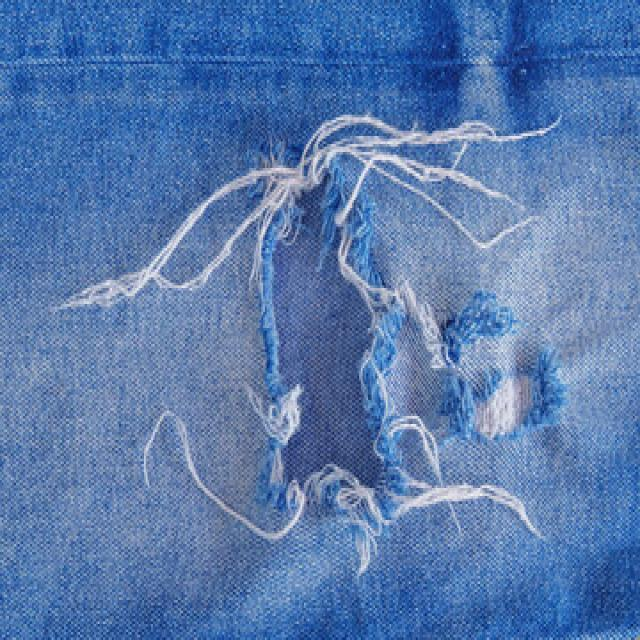Hole: (249, 159, 406, 512), (442, 290, 567, 438)
